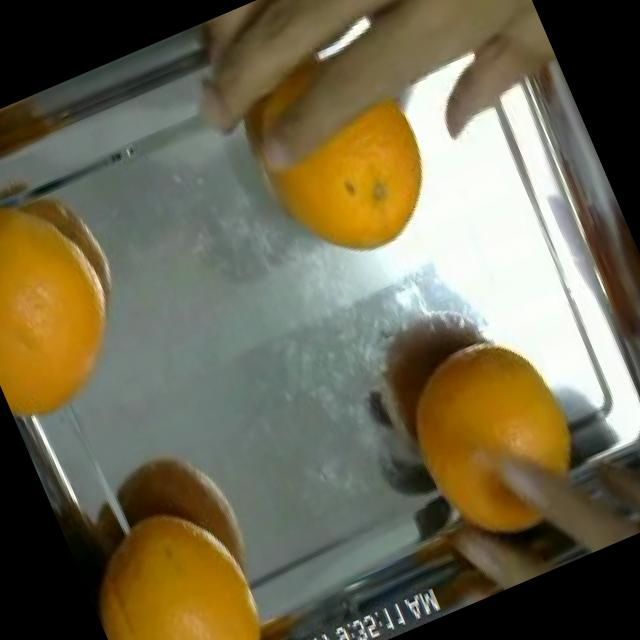Fruit: (233, 65, 469, 296), (58, 462, 288, 640)
